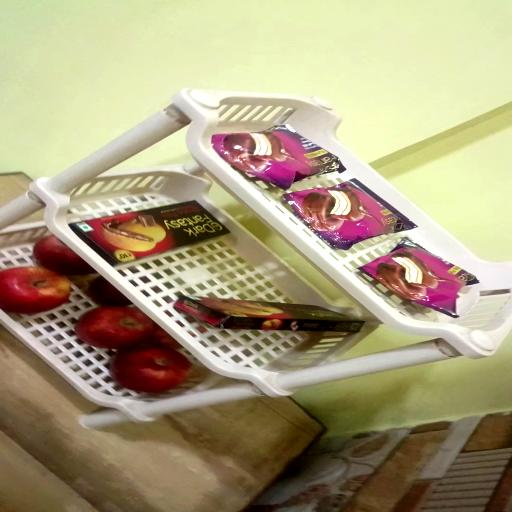Apple: (108, 344, 190, 394), (73, 306, 157, 349), (0, 268, 72, 315), (33, 237, 95, 276), (90, 276, 132, 307), (149, 325, 184, 349)
Choco Fills: (68, 202, 230, 269), (175, 296, 366, 332)
Choco Pie: (286, 181, 416, 253), (358, 242, 478, 320), (213, 125, 347, 188)
